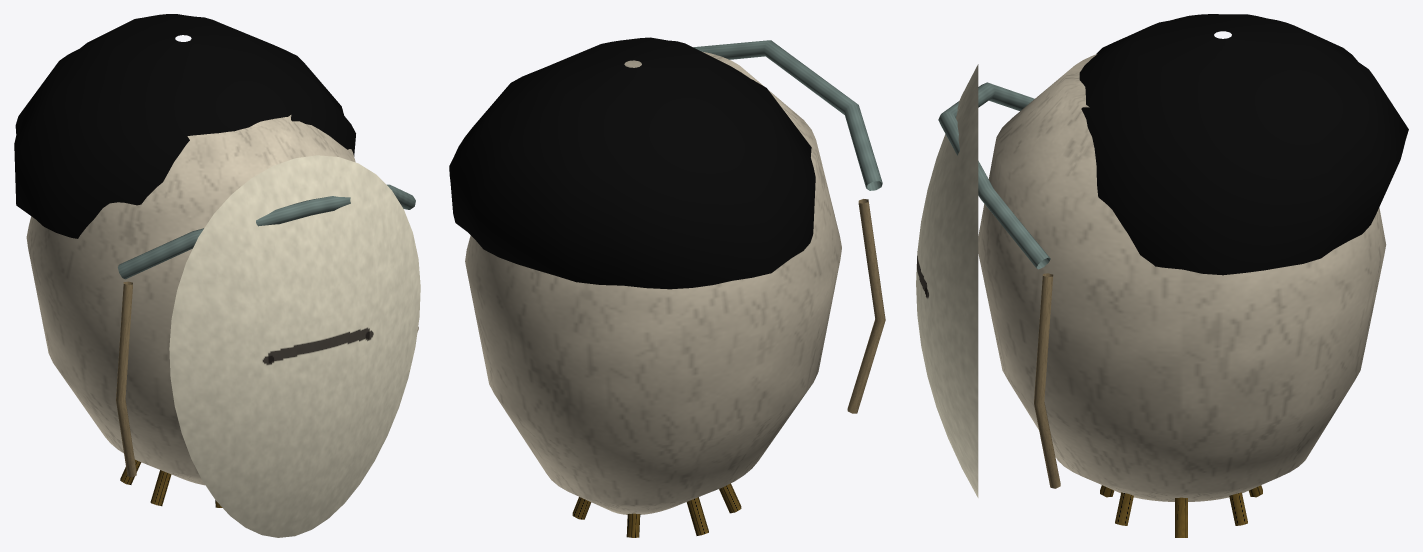
File: paper_head.glb
The picture shows the model from 3 angles, left to right: view 1: azimuth 30°, elevation 25°; view 2: azimuth 150°, elevation 25°; view 3: azimuth 270°, elevation 25°; orthographic projection. The views are drawn at different scales.
Parts seen in each view (by area): view 1: Face, Art_M_Black_Head, Head, Art_FadedIndigo_Head, Art_UnbleachedPaper_Head, Art_BambooRind; view 2: Art_M_Black_Head, Head, Art_FadedIndigo_Head, Art_UnbleachedPaper_Head, Art_BambooRind; view 3: Head, Art_M_Black_Head, Face, Art_FadedIndigo_Head, Art_UnbleachedPaper_Head, Art_BambooRind.
Part boxes in pixels (x1,y1,x2,y2): Face: (169, 155, 420, 537); Art_M_Black_Head: (14, 14, 355, 238); Head: (26, 115, 355, 485); Art_FadedIndigo_Head: (118, 184, 415, 279); Art_UnbleachedPaper_Head: (116, 281, 418, 477); Art_BambooRind: (120, 459, 222, 507); Art_M_Black_Head: (449, 37, 815, 289); Head: (465, 51, 841, 514); Art_FadedIndigo_Head: (693, 40, 882, 190); Art_UnbleachedPaper_Head: (847, 199, 885, 413); Art_BambooRind: (572, 483, 741, 537); Head: (978, 54, 1386, 501); Art_M_Black_Head: (1079, 14, 1408, 275); Face: (916, 64, 978, 497); Art_FadedIndigo_Head: (938, 82, 1050, 269); Art_UnbleachedPaper_Head: (1034, 273, 1060, 488); Art_BambooRind: (1100, 485, 1262, 537).
Size of the model in its own units: 0.259 by 0.3491 by 0.3323.
7 materials, 6 textured.
